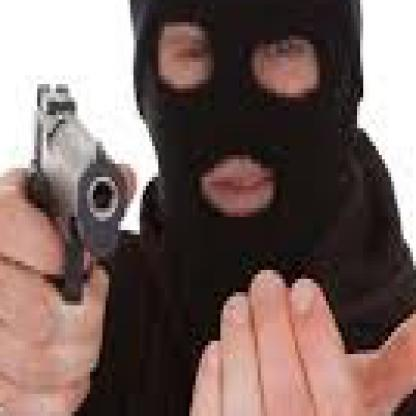gun: (16, 66, 124, 310)
